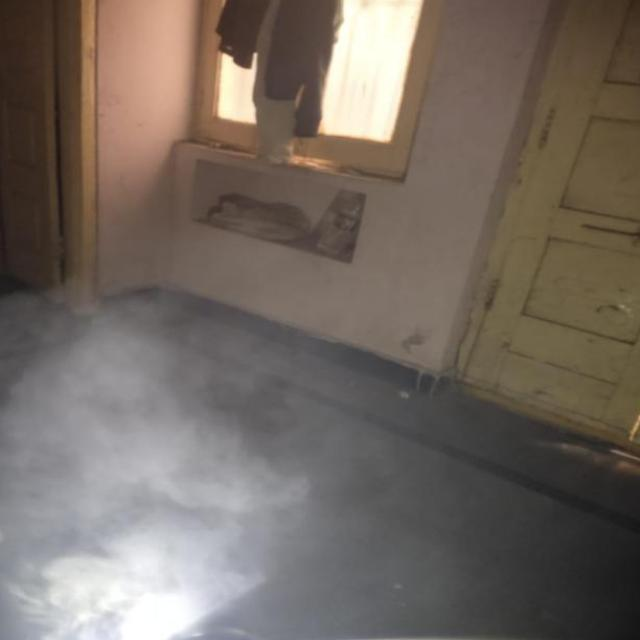fire: (0, 267, 343, 640)
